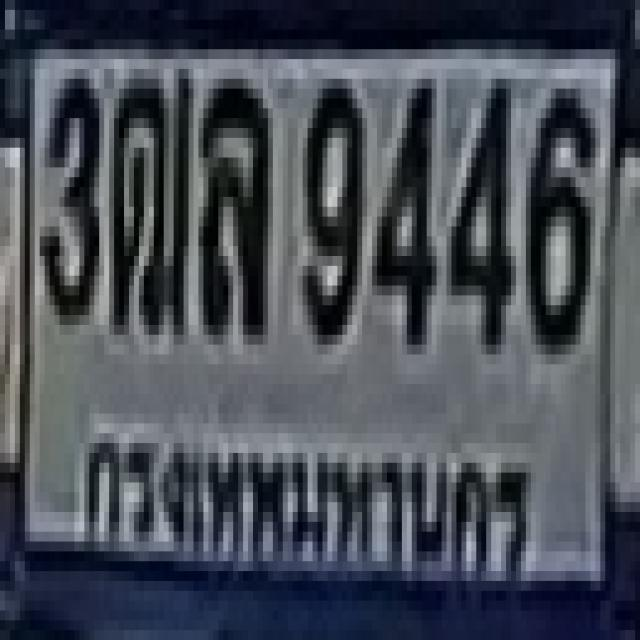3: (37, 69, 97, 315)
4: (447, 69, 506, 345), (372, 74, 432, 340)
6: (523, 88, 588, 344)
9: (298, 79, 357, 335)
A18: (109, 69, 189, 325)
A36: (198, 74, 263, 330)
BKK: (72, 402, 535, 599)
